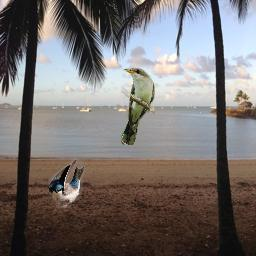Cuckoo: (121, 68, 155, 145)
Swallow: (48, 159, 85, 208)
